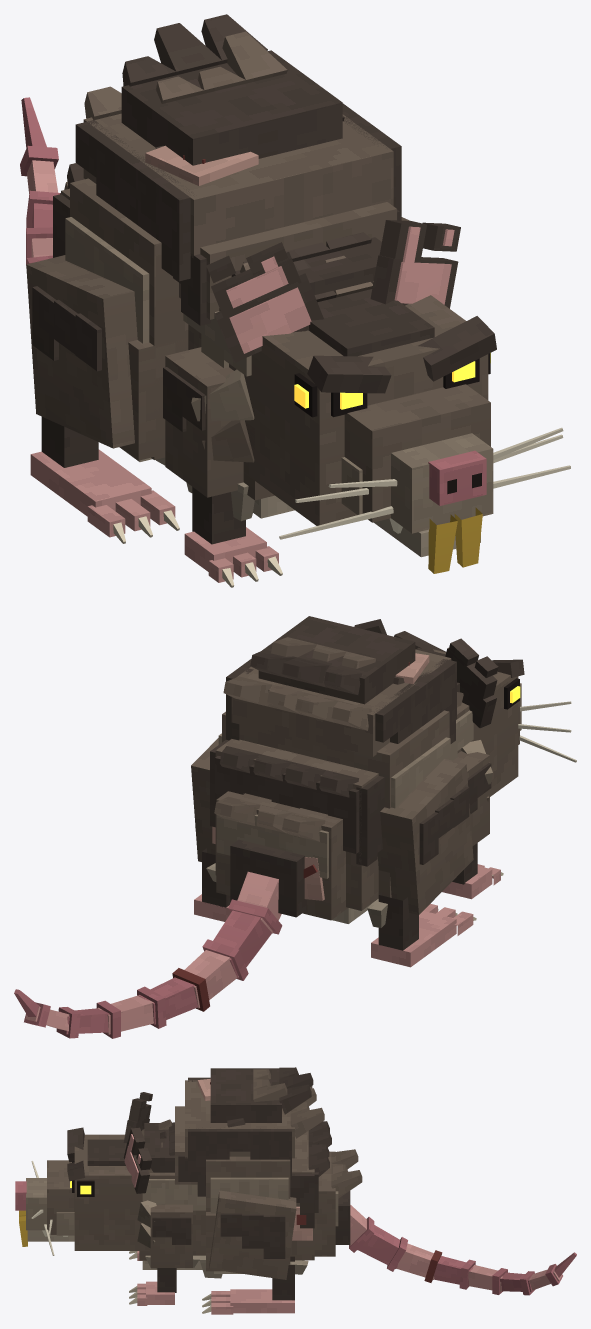
File: fmob_rat.glb
The picture shows the model from 3 angles, top to bottom: view 1: azimuth 30°, elevation 25°; view 2: azimuth 150°, elevation 25°; view 3: azimuth 270°, elevation 25°; orthographic projection. The views are drawn at different scales.
Parts seen in each view (by area): view 1: fmob_rat, head, leg_br, leg_fr, sway_tail, glow_eyes, jaw; view 2: fmob_rat, leg_br, sway_tail, head, leg_fr, leg_bl; view 3: fmob_rat, head, leg_bl, sway_tail, leg_fl, jaw.
Boxes of the visible parts, <box> form: fmob_rat: <box>53,14,401,521</box>; head: <box>191,220,570,573</box>; leg_br: <box>26,255,179,543</box>; leg_fr: <box>163,347,282,587</box>; sway_tail: <box>20,97,60,265</box>; glow_eyes: <box>294,353,490,409</box>; jaw: <box>374,518,480,557</box>; fmob_rat: <box>206,616,473,927</box>; leg_br: <box>371,759,476,967</box>; sway_tail: <box>14,871,282,1038</box>; head: <box>354,619,576,801</box>; leg_fr: <box>442,751,503,899</box>; leg_bl: <box>191,738,231,921</box>; fmob_rat: <box>139,1067,362,1278</box>; head: <box>15,1092,171,1255</box>; leg_bl: <box>202,1190,296,1314</box>; sway_tail: <box>349,1205,576,1295</box>; leg_fl: <box>129,1204,192,1305</box>; jaw: <box>27,1230,74,1241</box>.
Bounding box in the file's own units: 0.516 × 0.6165 × 1.56.
Materials: 16 (8 with a texture image).
